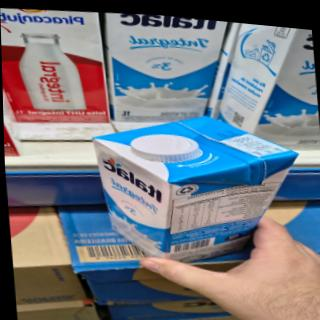Milk: (92, 114, 276, 275)
